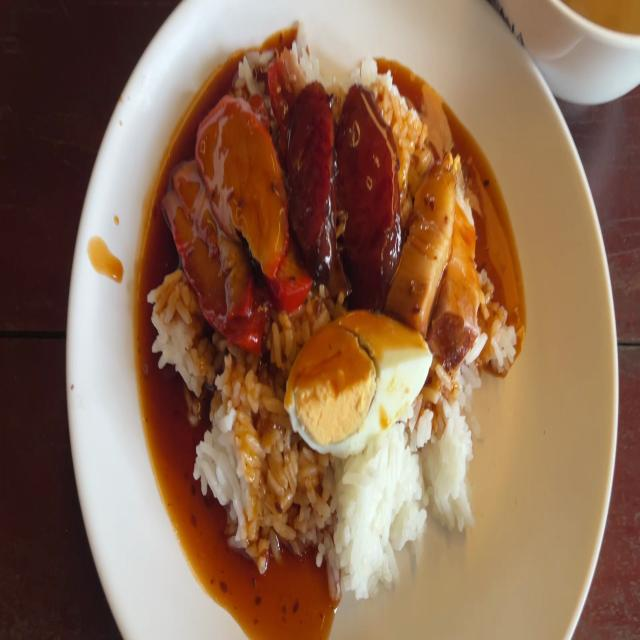01boiled_egg: (288, 312, 432, 452)
01chainese_sausage: (287, 77, 397, 286), (338, 91, 397, 303), (290, 77, 334, 276)
01crispy_pork: (397, 156, 480, 357), (394, 164, 456, 320), (449, 175, 480, 362)
01red_pork: (166, 99, 298, 345), (203, 97, 304, 316), (175, 159, 258, 356)
01red_pork_and_crispy_pork: (150, 24, 517, 584)
01rice: (315, 464, 429, 579), (204, 376, 281, 544), (426, 412, 482, 520), (156, 284, 200, 384), (484, 289, 512, 372), (282, 24, 319, 80), (349, 46, 391, 92)
